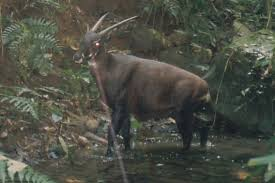sao_la: (71, 9, 210, 150)
